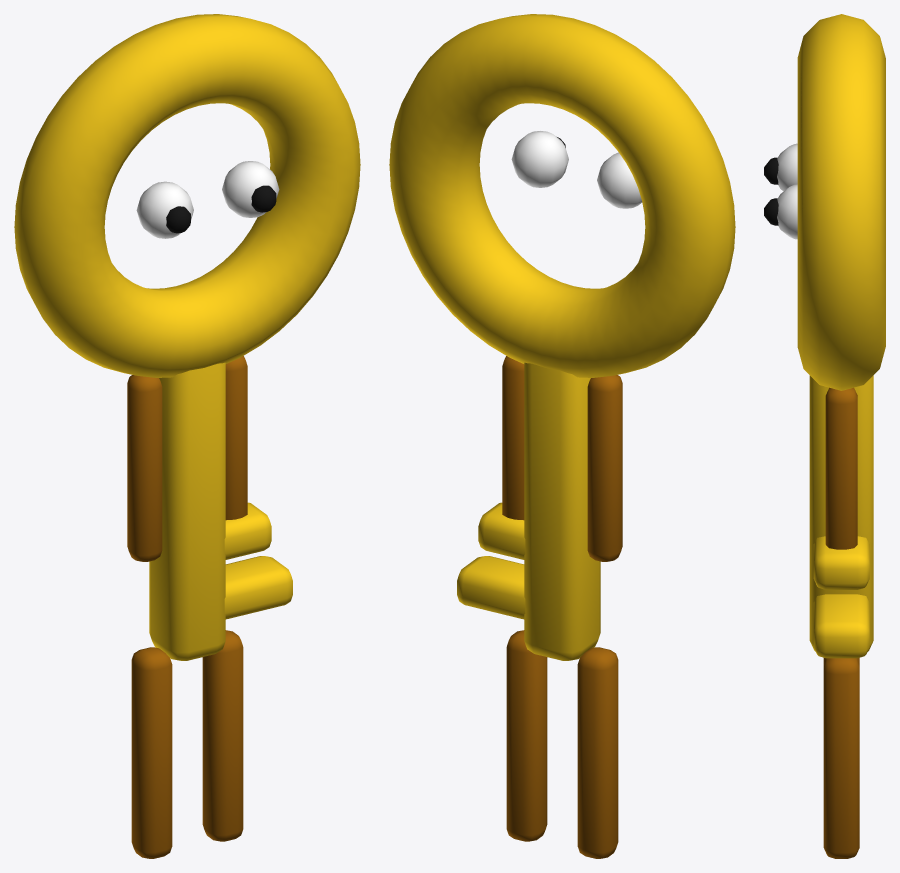
Rendered from key.glb.
3 views of the same model, side by side, from view 1: azimuth 30°, elevation 25°; view 2: azimuth 150°, elevation 25°; view 3: azimuth 270°, elevation 25° (orthographic). The views are drawn at different scales.
Parts seen in each view (by area): view 1: Ring, Shaft, LegL, LegR, ArmL, ArmR, Tooth1, EyeW1, EyeW-1, Tooth2; view 2: Ring, Shaft, LegL, LegR, ArmL, ArmR, Tooth1, EyeW1, Tooth2, EyeW-1; view 3: Ring, LegR, Shaft, ArmR, Tooth1, Tooth2, EyeW1, EyeW-1, Eye1, Eye-1.
Part boxes in pixels (x1,y1,x2,y2): Ring: [14, 14, 360, 377]; Shaft: [149, 362, 225, 660]; LegL: [131, 647, 172, 858]; LegR: [202, 630, 243, 841]; ArmL: [127, 375, 162, 561]; ArmR: [225, 356, 247, 520]; Tooth1: [224, 556, 292, 619]; EyeW1: [222, 161, 279, 217]; EyeW-1: [136, 181, 193, 238]; Tooth2: [224, 502, 271, 559]; Ring: [389, 14, 735, 377]; Shaft: [524, 362, 600, 660]; LegL: [577, 647, 618, 858]; LegR: [506, 630, 547, 841]; ArmL: [587, 375, 622, 561]; ArmR: [502, 356, 524, 520]; Tooth1: [457, 556, 525, 619]; EyeW1: [511, 131, 568, 187]; Tooth2: [478, 502, 525, 559]; EyeW-1: [597, 152, 642, 208]; Ring: [797, 14, 885, 390]; LegR: [823, 658, 859, 858]; Shaft: [809, 375, 873, 651]; ArmR: [825, 387, 857, 549]; Tooth1: [813, 594, 869, 658]; Tooth2: [813, 536, 869, 589]; EyeW1: [777, 184, 797, 239]; EyeW-1: [777, 143, 797, 191]; Eye1: [764, 198, 778, 225]; Eye-1: [764, 157, 778, 184].
Bounding box in the file's own units: 0.94 × 2.22 × 0.3033.
